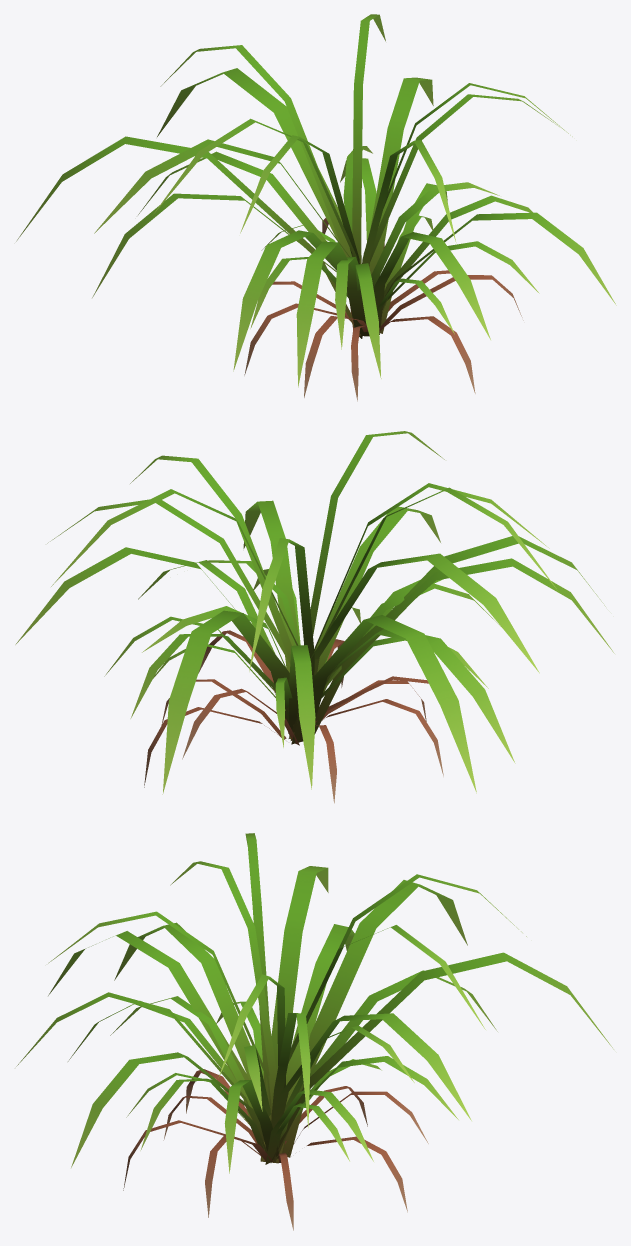
Rendered from SM_LemonGrass_01.fbx.
The picture shows the model from 3 angles, top to bottom: view 1: azimuth 30°, elevation 25°; view 2: azimuth 150°, elevation 25°; view 3: azimuth 270°, elevation 25°; orthographic projection. The views are drawn at different scales.
Visible parts, largest first — view 1: SM_LemonGrass_01; view 2: SM_LemonGrass_01; view 3: SM_LemonGrass_01.
Boxes of the visible parts, left/top/right/bottom form: SM_LemonGrass_01: left=16, top=14, right=616, bottom=401; SM_LemonGrass_01: left=15, top=431, right=614, bottom=803; SM_LemonGrass_01: left=16, top=833, right=613, bottom=1230.
Size of the model in its own units: 4.55 by 2.49 by 4.89.
